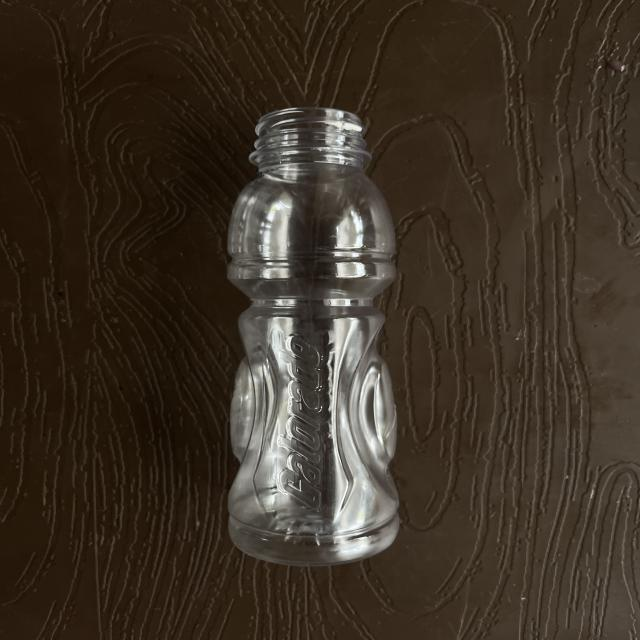PET_ClearBottle: (48, 110, 465, 577)
